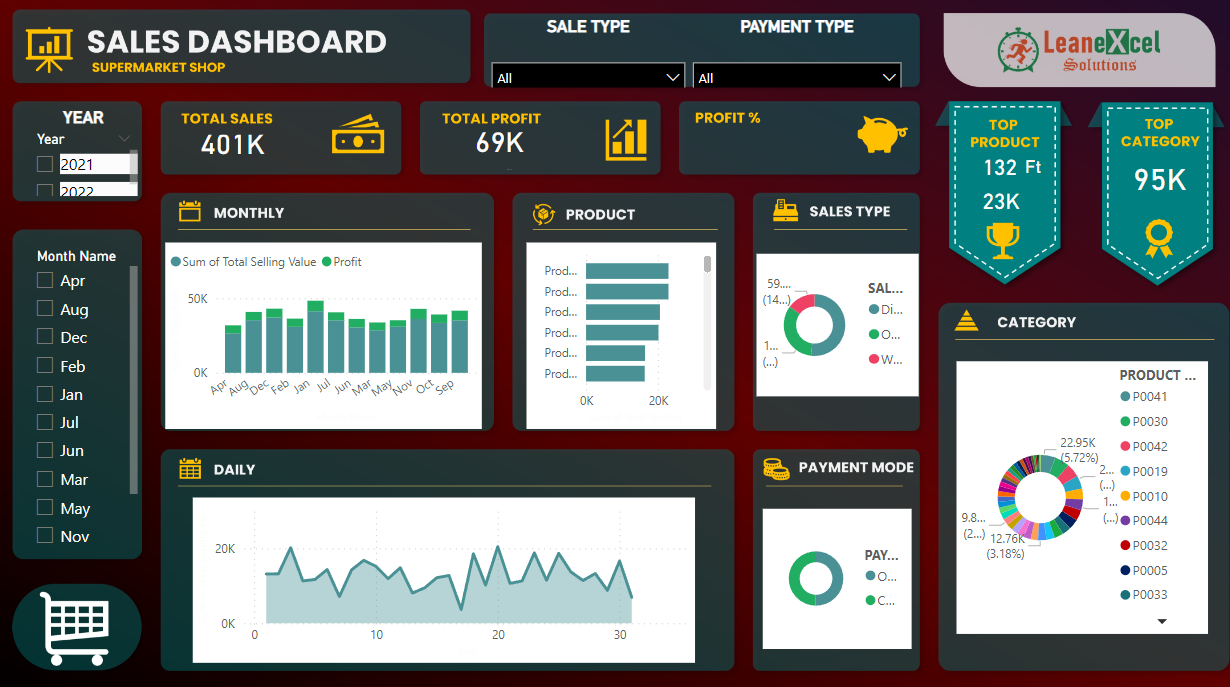

Layout of this report page (visuals, bound fields, positions):
{"tool":"powerbi","page":{"name":"Page 1","canvas":[1280,720],"ordinal":0},"visuals":[{"type":"slicer","title":"YEAR","fields":{"Values":["InputData.Year"]},"box":[30.6,120,121.2,95.7],"z":0},{"type":"slicer","title":"SALE TYPE","fields":{"Values":["InputData.SALE TYPE"]},"box":[497.7,26.8,218.2,72.7],"z":1000},{"type":"slicer","title":"PAYMENT TYPE","fields":{"Values":["InputData.PAYMENT MODE"]},"box":[703.2,26.8,233.5,72.7],"z":2000},{"type":"slicer","fields":{"Values":["InputData.Month Name"]},"box":[30.6,257.8,121.2,313.9],"z":3000},{"type":"card","fields":{"Values":["Sum(InputData.Total Selling Value)"]},"box":[174.8,142.9,137.8,45.9],"z":4000},{"type":"card","fields":{"Values":["Sum(InputData.QUANTITY)"]},"box":[982.7,160.8,88.1,40.8],"z":5000},{"type":"card","fields":{"Values":["Min(InputData.MasterData.UOM)"]},"box":[1040.1,155.7,42.1,49.8],"z":6000},{"type":"card","fields":{"Values":["Sum(InputData.Total Selling Value)"]},"box":[1144.7,167.2,90.6,48.5],"z":7000},{"type":"card","fields":{"Values":["Sum(InputData.Total Selling Value)"]},"box":[983.9,188.9,88.1,53.6],"z":8000},{"type":"card","fields":{"Values":["InputData.Profit"]},"box":[441.6,140.4,149.3,48.5],"z":9000},{"type":"columnChart","fields":{"Category":["InputData.Month Name"],"Y":["Sum(InputData.Total Selling Value)","InputData.Profit"]},"box":[174.8,257.8,322.9,190.1],"z":10000},{"type":"barChart","fields":{"Category":["InputData.MasterData.PRODUCT"],"Y":["Sum(InputData.Total Selling Value)"]},"box":[543.6,257.8,194,190.1],"z":11000},{"type":"areaChart","fields":{"Y":["Sum(InputData.Total Selling Value)"],"Category":["InputData.Day"]},"box":[202.9,518.1,513,168.5],"z":12000},{"type":"donutChart","fields":{"Y":["Sum(InputData.Total Selling Value)"],"Category":["InputData.SALE TYPE"]},"box":[778.5,269.3,165.9,145.5],"z":13000},{"type":"donutChart","fields":{"Y":["Sum(InputData.Total Selling Value)"],"Category":["InputData.PAYMENT MODE"]},"box":[784.8,529.6,151.9,142.9],"z":14000},{"type":"donutChart","fields":{"Y":["Sum(InputData.Total Selling Value)"],"Category":["InputData.PRODUCT ID"]},"box":[982.7,379,256.5,278.2],"z":15000}]}

Visuals, with their boxes in screenshot pixels (x1, y1, x2, y2), scaled from the page's 1280x720 canvas onto the 1230x687 screenshot:
"YEAR" slicer: bbox(29, 114, 146, 206)
"SALE TYPE" slicer: bbox(478, 26, 688, 95)
"PAYMENT TYPE" slicer: bbox(676, 26, 900, 95)
slicer - InputData.Month Name: bbox(29, 246, 146, 545)
card - Sum(InputData.Total Selling Value): bbox(168, 136, 300, 180)
card - Sum(InputData.QUANTITY): bbox(944, 153, 1029, 192)
card - Min(InputData.MasterData.UOM): bbox(999, 149, 1040, 196)
card - Sum(InputData.Total Selling Value): bbox(1100, 160, 1187, 206)
card - Sum(InputData.Total Selling Value): bbox(945, 180, 1030, 231)
card - InputData.Profit: bbox(424, 134, 568, 180)
columnChart - InputData.Month Name x Sum(InputData.Total Selling Value): bbox(168, 246, 478, 427)
barChart - InputData.MasterData.PRODUCT x Sum(InputData.Total Selling Value): bbox(522, 246, 709, 427)
areaChart - Sum(InputData.Total Selling Value) x InputData.Day: bbox(195, 494, 688, 655)
donutChart - Sum(InputData.Total Selling Value) x InputData.SALE TYPE: bbox(748, 257, 908, 396)
donutChart - Sum(InputData.Total Selling Value) x InputData.PAYMENT MODE: bbox(754, 505, 900, 642)
donutChart - Sum(InputData.Total Selling Value) x InputData.PRODUCT ID: bbox(944, 362, 1191, 627)
